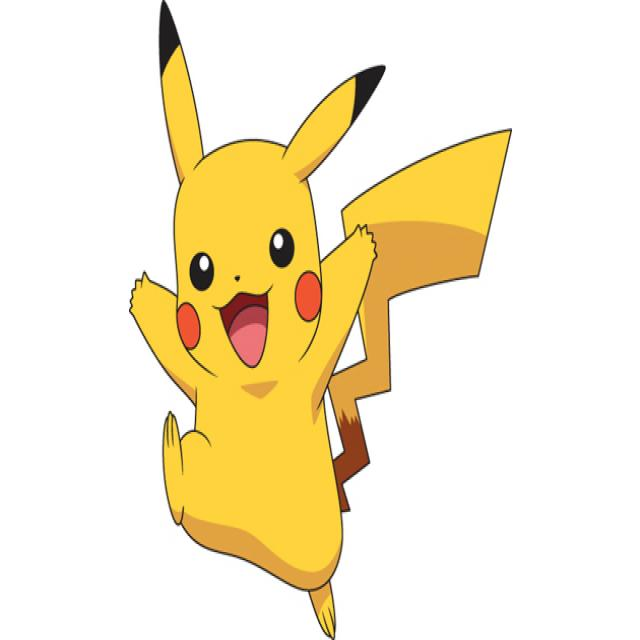Pikachu: (116, 20, 522, 640)
